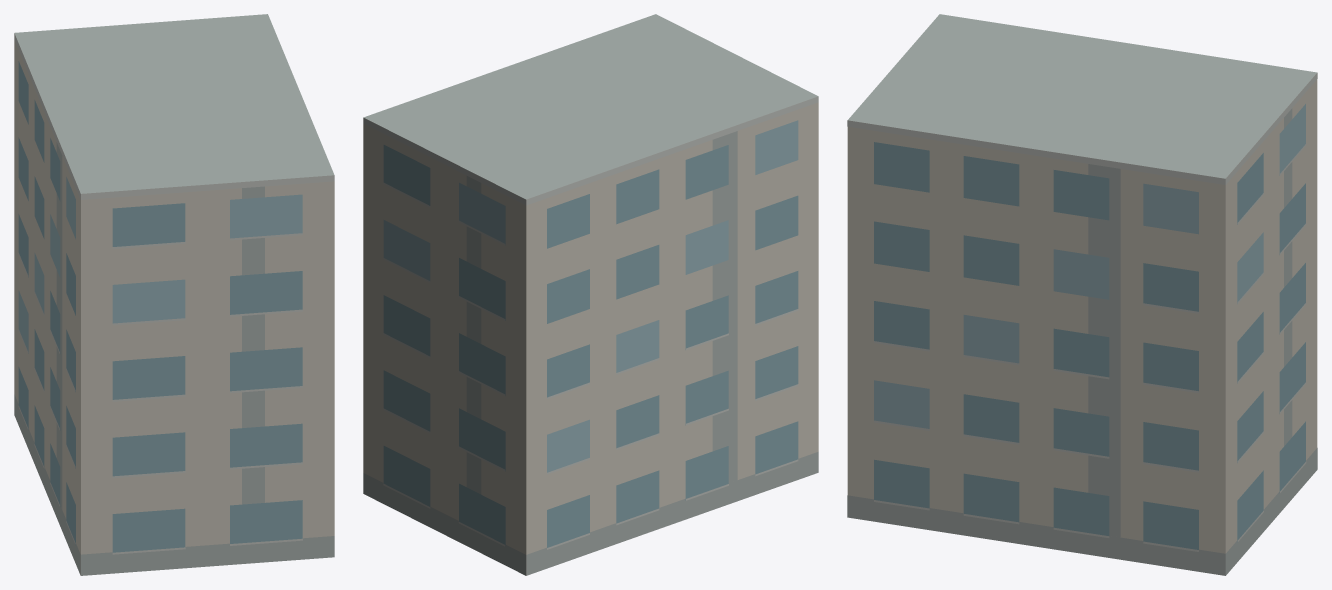
Rendered from residential-bfd5c9a6-d2a2-4e6b-af05-8f45f15c00cb.glb.
3 renders of one model, left to right at view 1: azimuth 30°, elevation 25°; view 2: azimuth 150°, elevation 25°; view 3: azimuth 270°, elevation 25°, orthographic. The views are drawn at different scales.
Visible parts, largest first — view 1: residential-bfd5c9a6-d2a2-4e6b-af05-8f45f15c00cb.tmp; view 2: residential-bfd5c9a6-d2a2-4e6b-af05-8f45f15c00cb.tmp; view 3: residential-bfd5c9a6-d2a2-4e6b-af05-8f45f15c00cb.tmp.
Part boxes in pixels (x1,y1,x2,y2): residential-bfd5c9a6-d2a2-4e6b-af05-8f45f15c00cb.tmp: [14, 14, 334, 575]; residential-bfd5c9a6-d2a2-4e6b-af05-8f45f15c00cb.tmp: [363, 14, 818, 575]; residential-bfd5c9a6-d2a2-4e6b-af05-8f45f15c00cb.tmp: [847, 14, 1317, 575].
Bounding box in the file's own units: 13.58 × 15.25 × 16.36.
